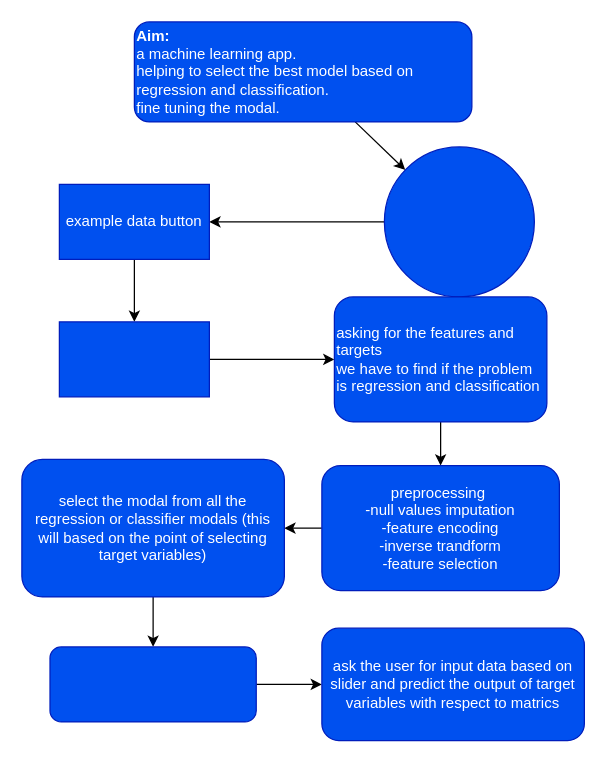
This 606x763 diagram has some shape labels left out. The shapes that lost their labels are listed below. From the top down, each one's centre as x and y in pixels, then its label:
At (x=458, y=221): "load the data or upload the data".
At (x=133, y=359): "cheak the columns name and the data types".
At (x=152, y=684): "add the evaluation metrics based on problem".
